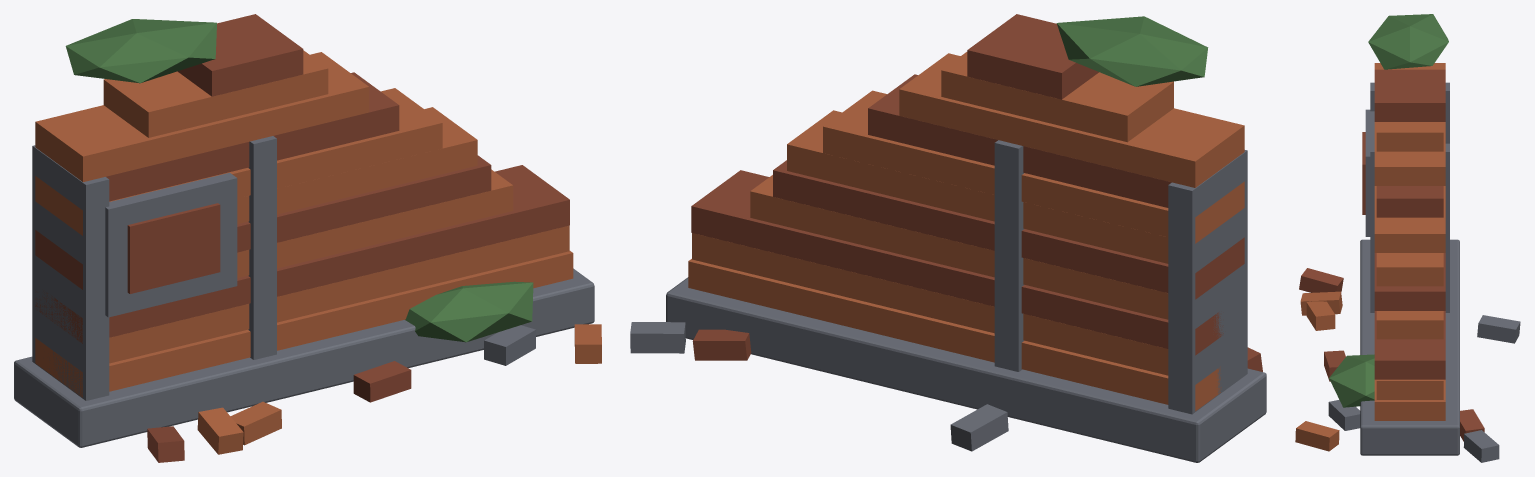
Rendered from candi_reruntuhan.glb.
3 views of the same model, side by side, from view 1: azimuth 30°, elevation 25°; view 2: azimuth 150°, elevation 25°; view 3: azimuth 270°, elevation 25° (orthographic). The views are drawn at different scales.
Visible parts, largest first — view 1: candi_reruntuhan_mesh; view 2: candi_reruntuhan_mesh; view 3: candi_reruntuhan_mesh.
Boxes of the visible parts, bbox=[...] form: candi_reruntuhan_mesh: bbox=[14, 14, 601, 462]; candi_reruntuhan_mesh: bbox=[630, 14, 1266, 462]; candi_reruntuhan_mesh: bbox=[1295, 14, 1520, 462].
Size of the model in its own units: 4.14 by 2.76 by 2.03.
